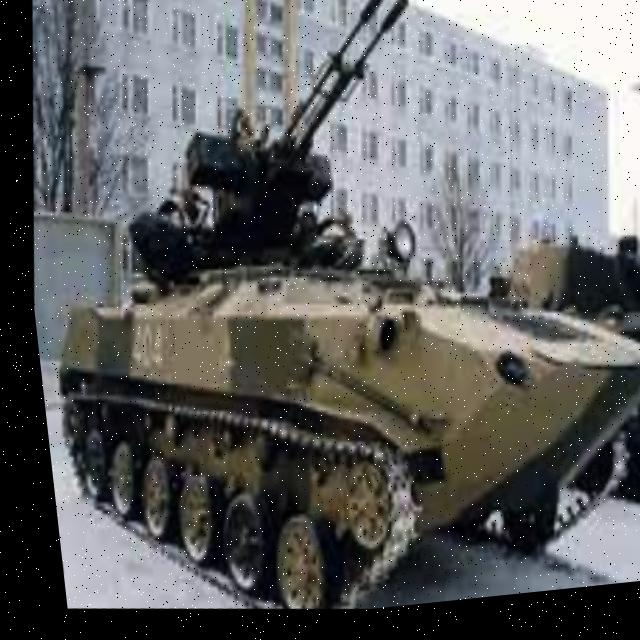MIL_APC: (19, 170, 640, 640)
